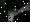person: (6, 1, 30, 22)
